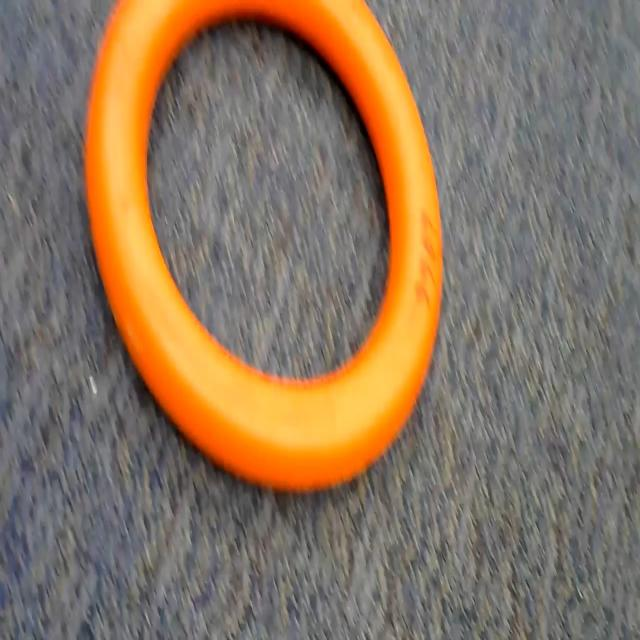note: (82, 0, 456, 512)
